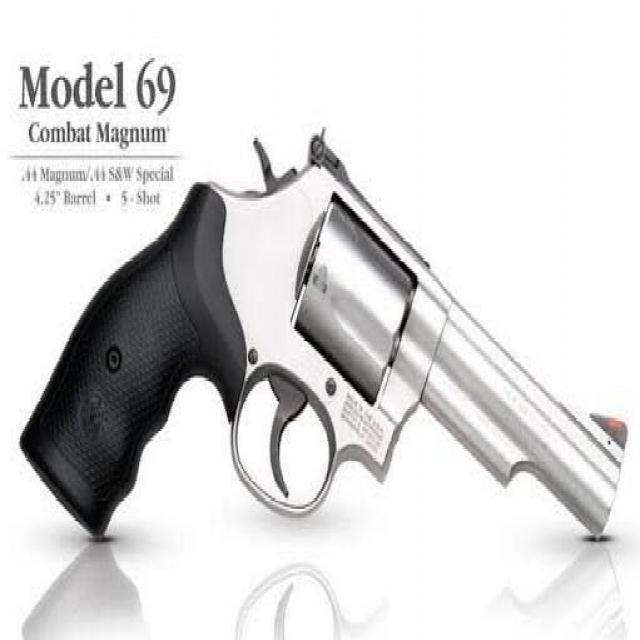revolver: (16, 50, 632, 626)
